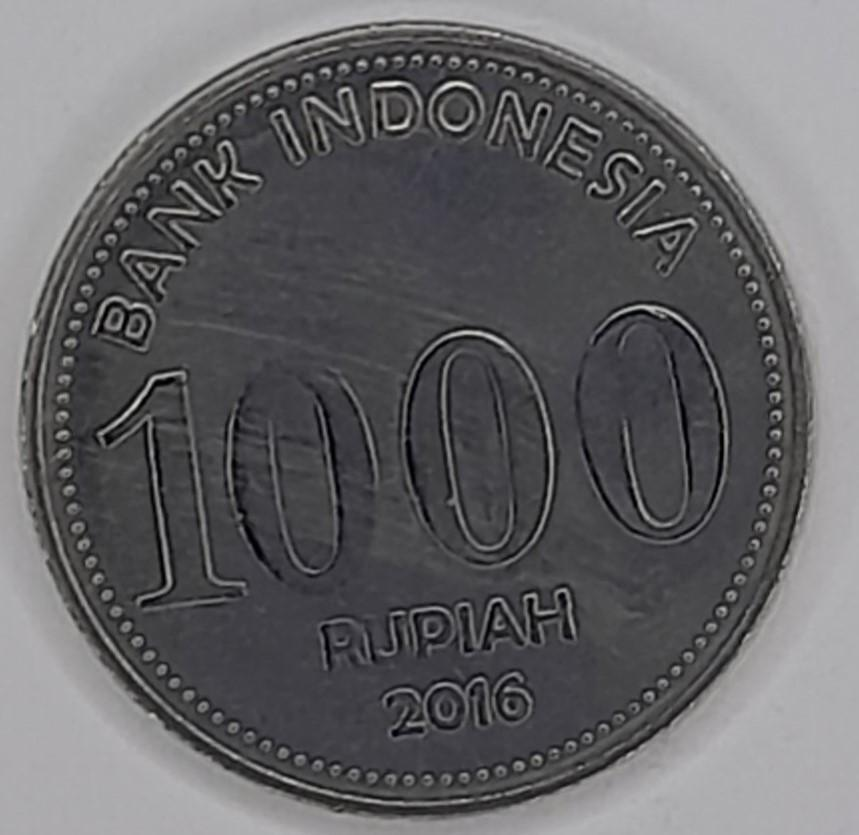coin_1000_e2016: (15, 17, 848, 835)
